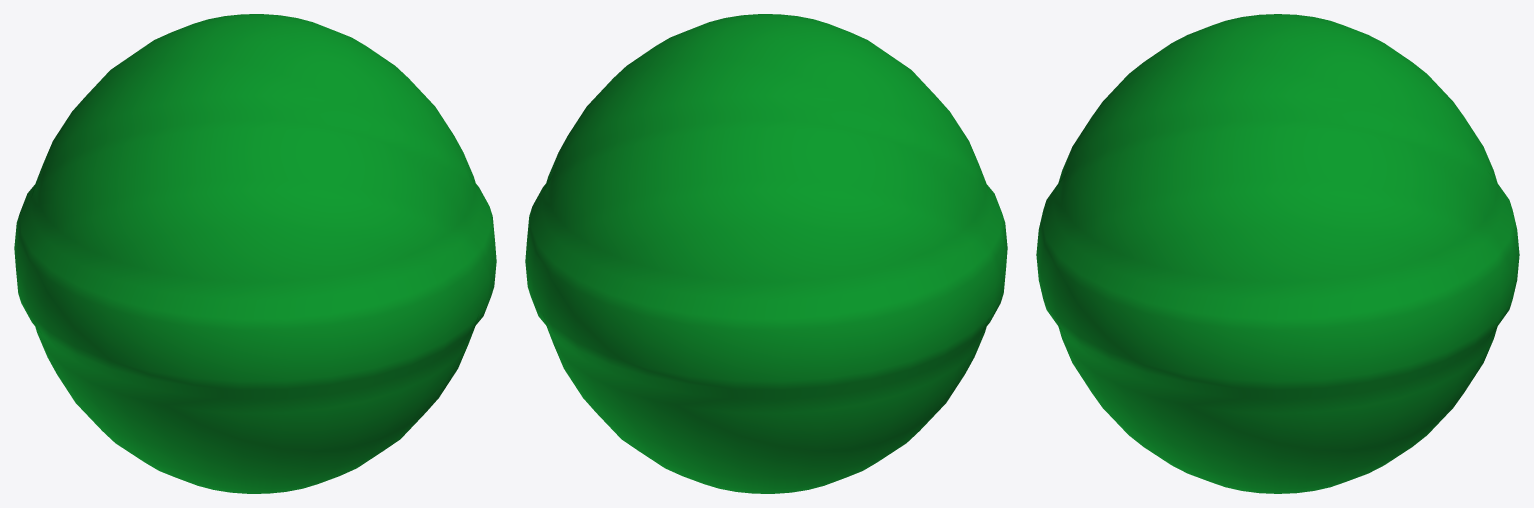
File: Платформа сфера.fbx
The picture shows the model from 3 angles, left to right: view 1: azimuth 30°, elevation 25°; view 2: azimuth 150°, elevation 25°; view 3: azimuth 270°, elevation 25°; orthographic projection.
Parts seen in each view (by area): view 1: Head; view 2: Head; view 3: Head.
Boxes of the visible parts, bbox=[...] form: Head: bbox=[14, 14, 496, 493]; Head: bbox=[525, 14, 1007, 493]; Head: bbox=[1036, 14, 1519, 493].
Bounding box in the file's own units: 1 × 1 × 1.
